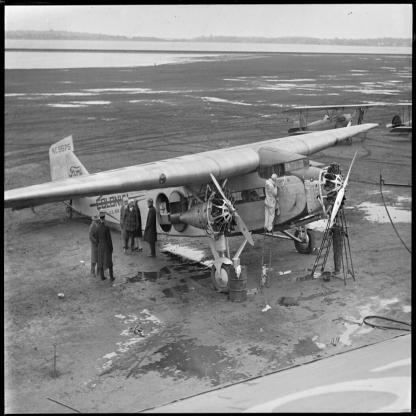CIV_Plane: (3, 117, 392, 294)
